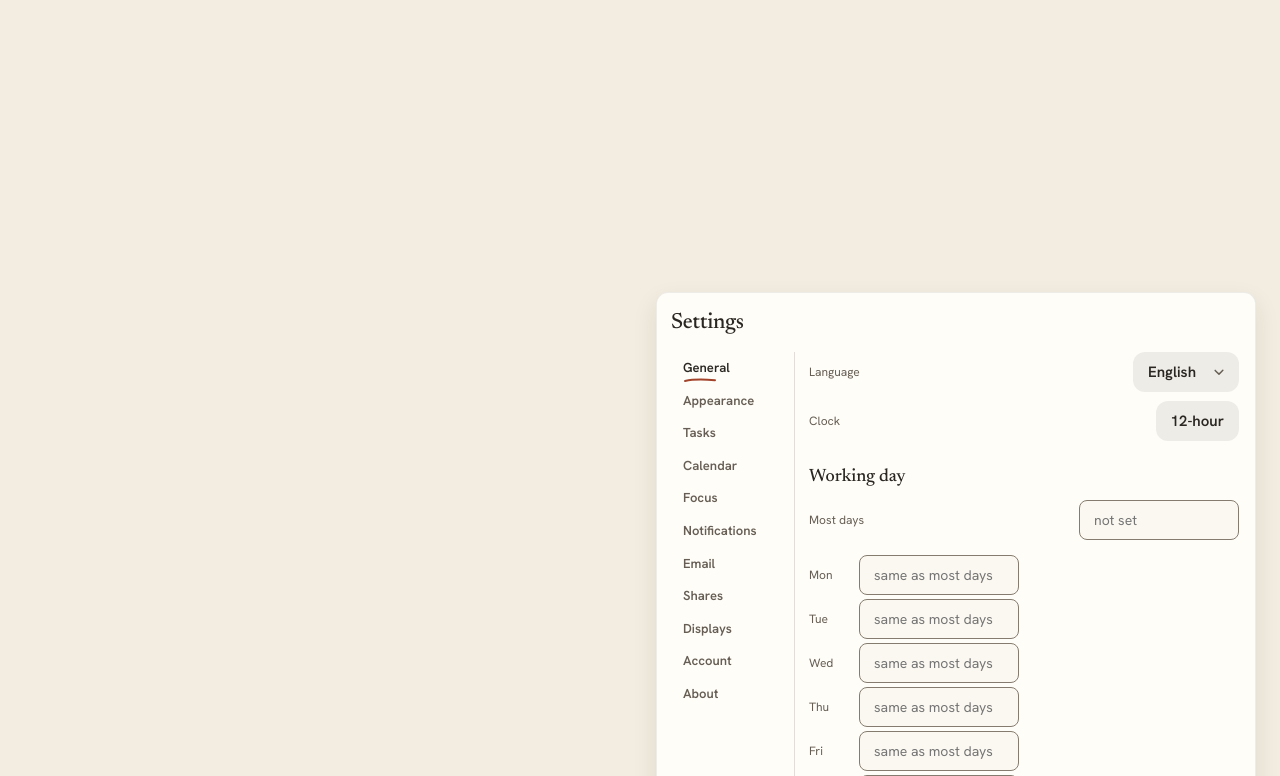
Scenario: <SettingsMenu> under Field notes › removes the hints from Appearance, and the whole desktop line
(page scrolled)
Click the tab "Appearance": click(728, 400) left=671, top=385, right=786, bottom=416
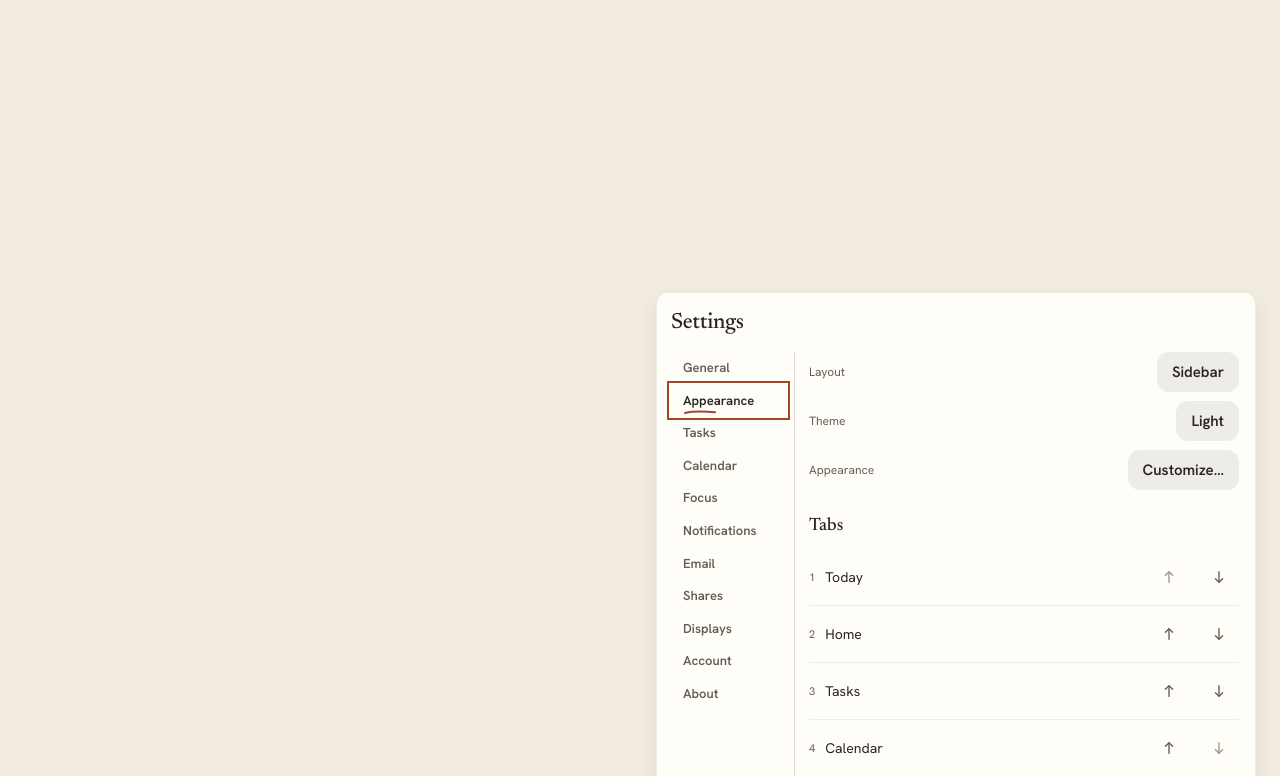
Check: the button with aria-label "Customize appearance" is shown, box left=1128, top=450, right=1239, bottom=490
